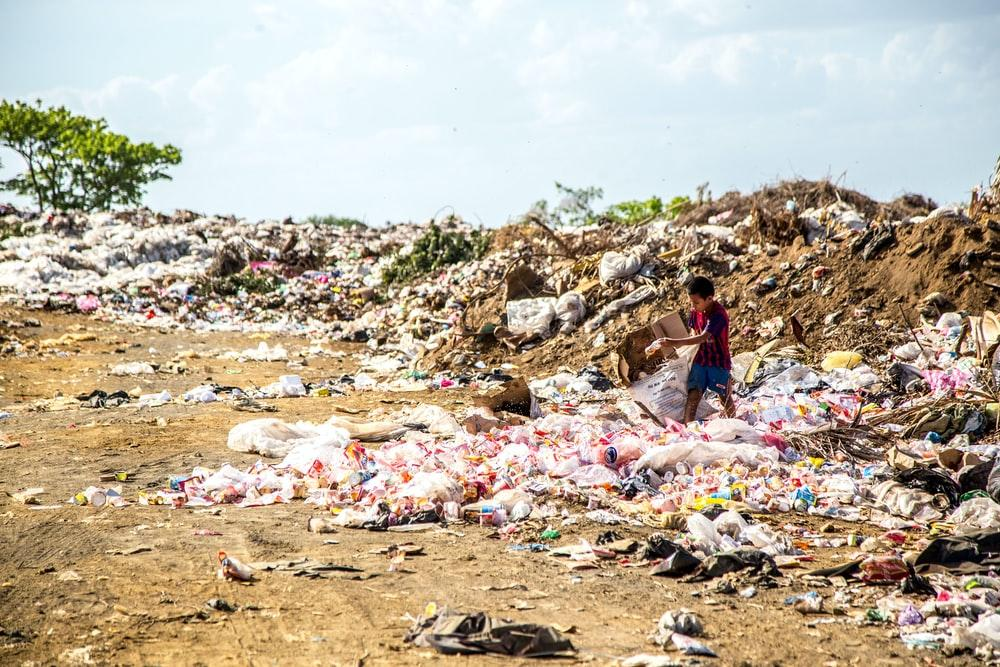garbage: (0, 192, 1000, 596)
